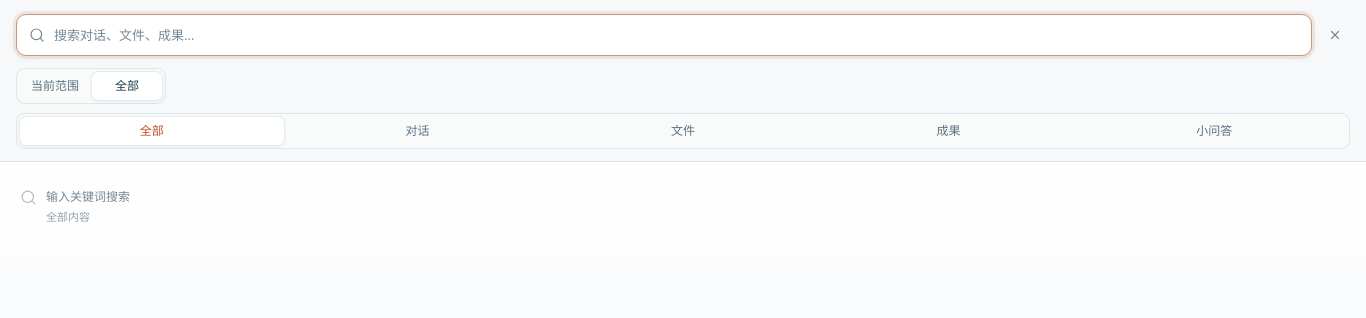
GlobalSearchPage › keeps the current workspace when a search jump would abandon a dirty Markdown draft
This screenshot has width=1366, height=318.
Type "毕业设计" into the field with placeholder "搜索对话、文件、成果..." at (678, 35), box [54,26,1301,44]
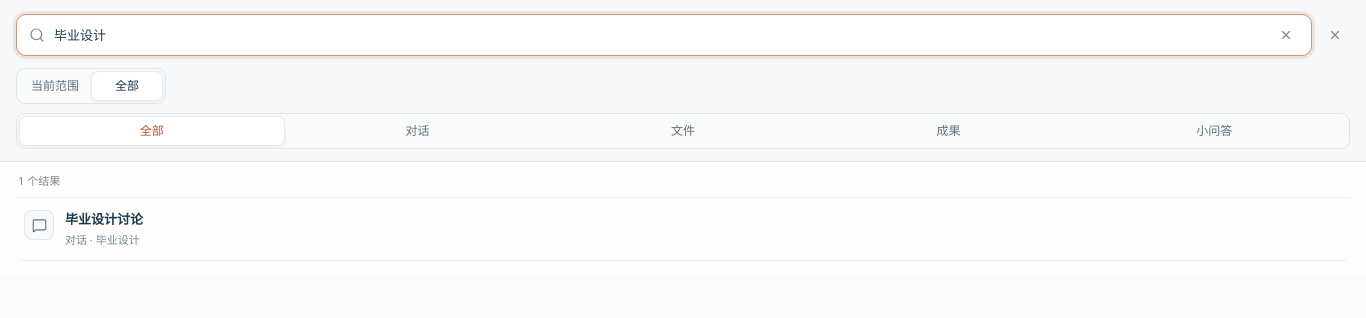
Click the button "毕业设计讨论 对话 · 毕业设计" at (104, 219), box [16,198,1350,260]
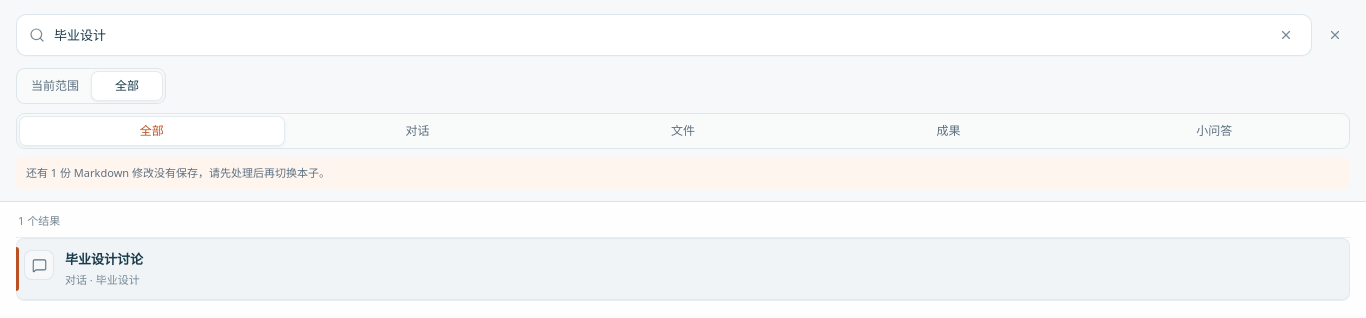
Now the message "还有 1 份 Markdown 修改没有保存，请先处理后再切换本子。" is shown, box [16,157,1350,189]
